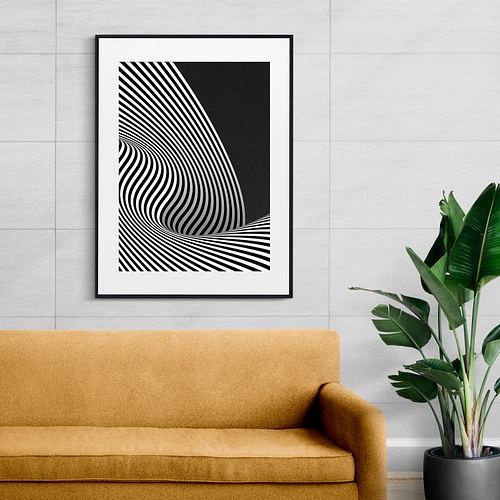large plant: (351, 180, 500, 500)
sofa: (0, 326, 388, 500)
wall art: (91, 31, 295, 300)
